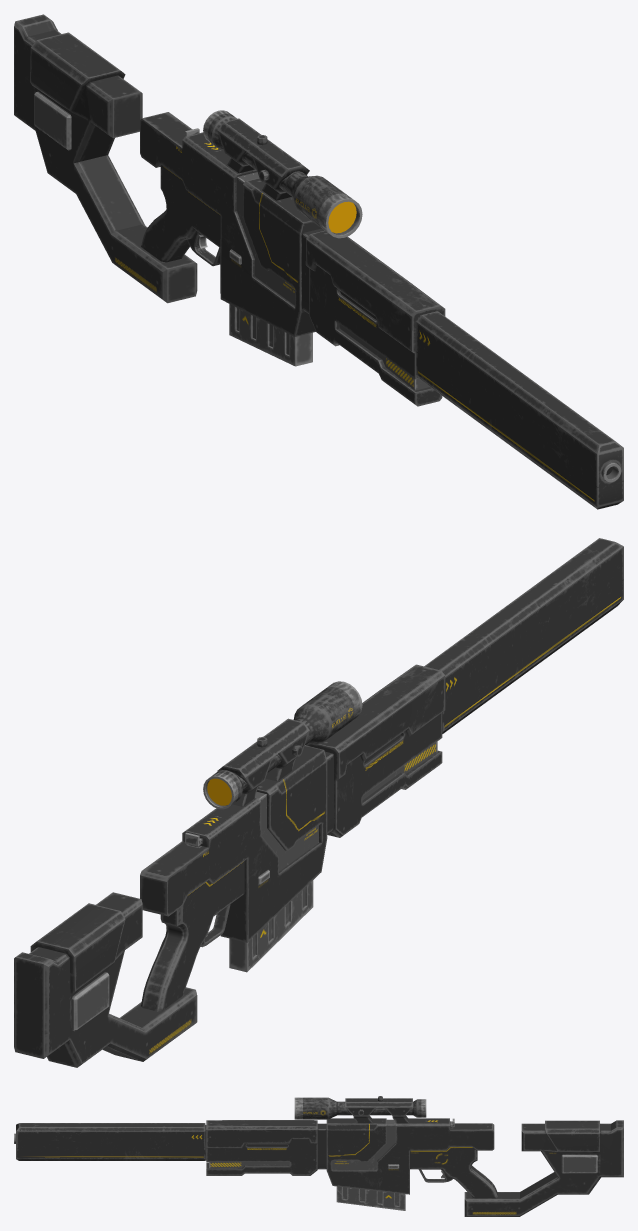
File: r7-x_sniper-rifle.obj
3 renders of one model, top to bottom at view 1: azimuth 30°, elevation 25°; view 2: azimuth 150°, elevation 25°; view 3: azimuth 270°, elevation 25°, orthographic. The views are drawn at different scales.
Parts seen in each view (by area): view 1: Body8_BlackCoat_0, Body8_GreyCoat_0, Cartridge1_GreyCoat_0, Body8_BlackGlass_0; view 2: Body8_BlackCoat_0, Body8_GreyCoat_0, Cartridge1_GreyCoat_0; view 3: Body8_BlackCoat_0, Body8_GreyCoat_0, Cartridge1_GreyCoat_0.
Boxes of the visible parts, <box> form: Body8_BlackCoat_0: <box>14,14,623,509</box>; Body8_GreyCoat_0: <box>34,92,621,482</box>; Cartridge1_GreyCoat_0: <box>229,304,312,366</box>; Body8_BlackGlass_0: <box>328,201,356,233</box>; Body8_BlackCoat_0: <box>14,538,623,1067</box>; Body8_GreyCoat_0: <box>71,681,437,1031</box>; Cartridge1_GreyCoat_0: <box>229,880,313,972</box>; Body8_BlackCoat_0: <box>16,1096,623,1216</box>; Body8_GreyCoat_0: <box>14,1097,597,1173</box>; Cartridge1_GreyCoat_0: <box>336,1186,405,1210</box>.
Bounding box in the file's own units: 0.1169 × 0.5482 × 2.61.
